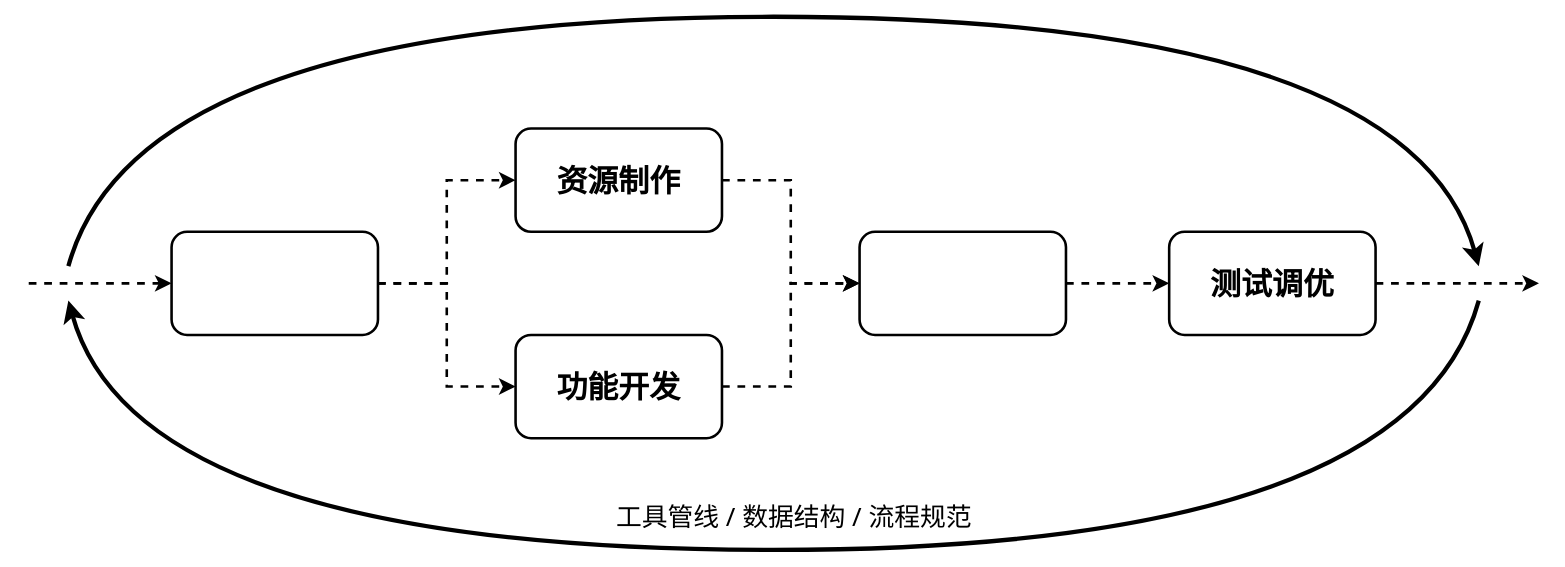
The diagram is 1565 pixels wide and 567 high, and some of its shapes have lost their labels. The centre of each missing label's shape, as x and y in pixels:
前期设计: (274,283)
数据整合: (962,283)
